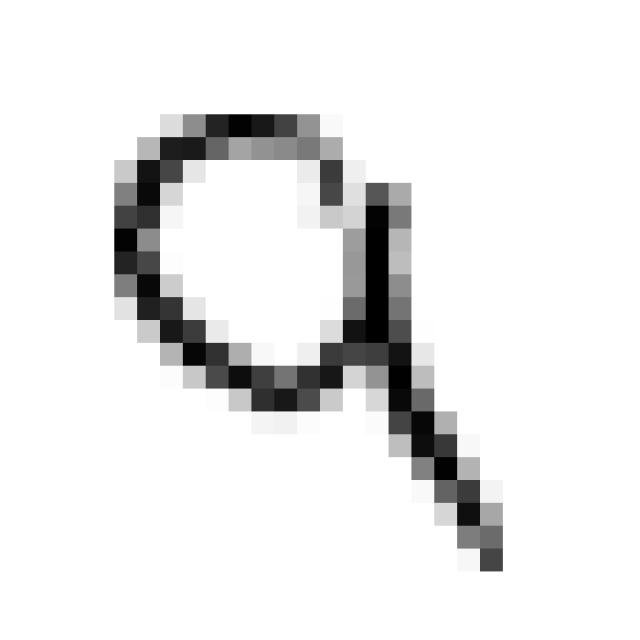9 -nine-: (85, 87, 527, 591)
